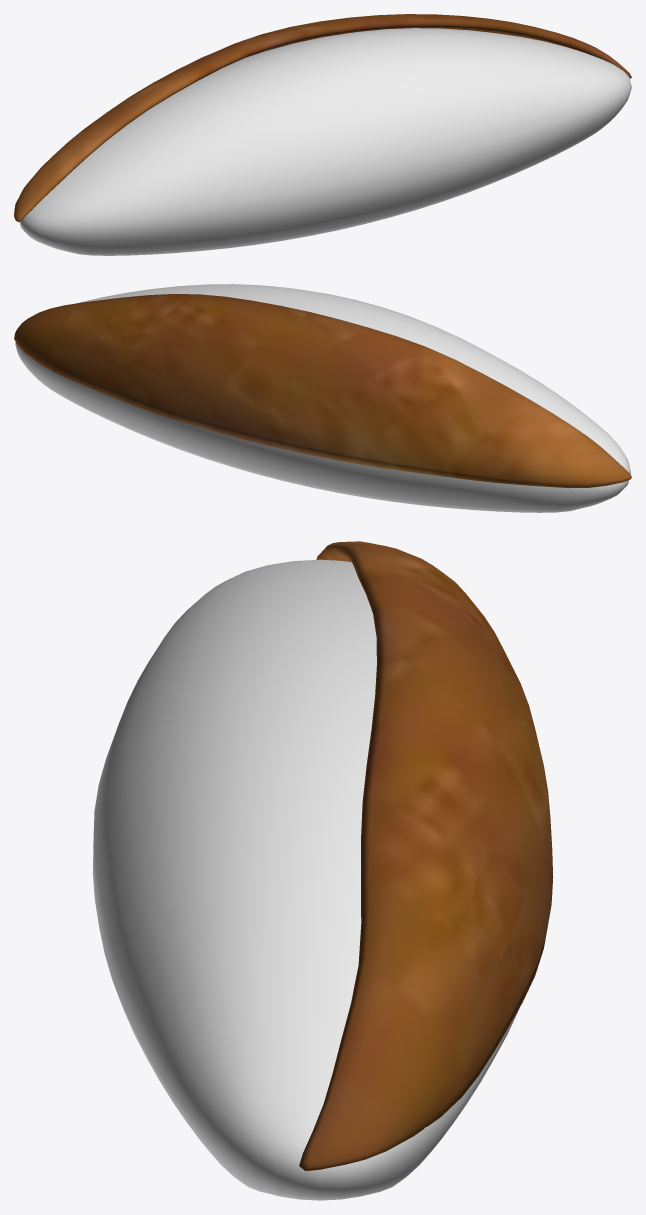
File: bread.fbx
3 views of the same model, one above another, from view 1: azimuth 30°, elevation 25°; view 2: azimuth 150°, elevation 25°; view 3: azimuth 270°, elevation 25° (orthographic). The views are drawn at different scales.
Parts seen in each view (by area): view 1: Cube.003; view 2: Cube.003; view 3: Cube.003.
Boxes of the visible parts, left/top/right/bottom form: Cube.003: left=14, top=14, right=631, bottom=255; Cube.003: left=14, top=284, right=631, bottom=512; Cube.003: left=92, top=541, right=553, bottom=1200.
Size of the model in its own units: 449 by 116 by 146.
